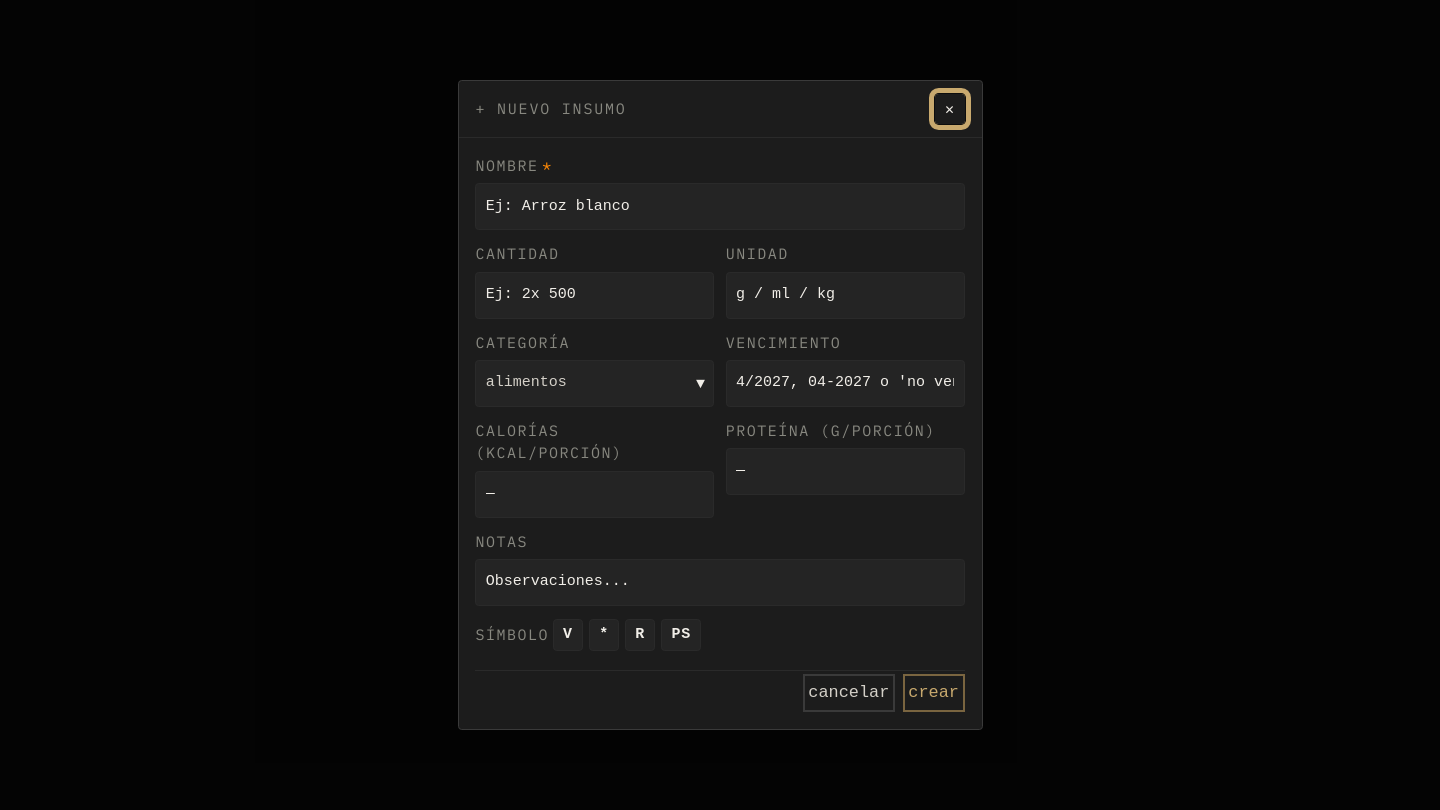
Scenario: InsumoModal › debe validar que el nombre sea requerido
The width and height of the screenshot is (1440, 810).
Click the button "crear".
click(934, 693)  # box left=902, top=674, right=965, bottom=712
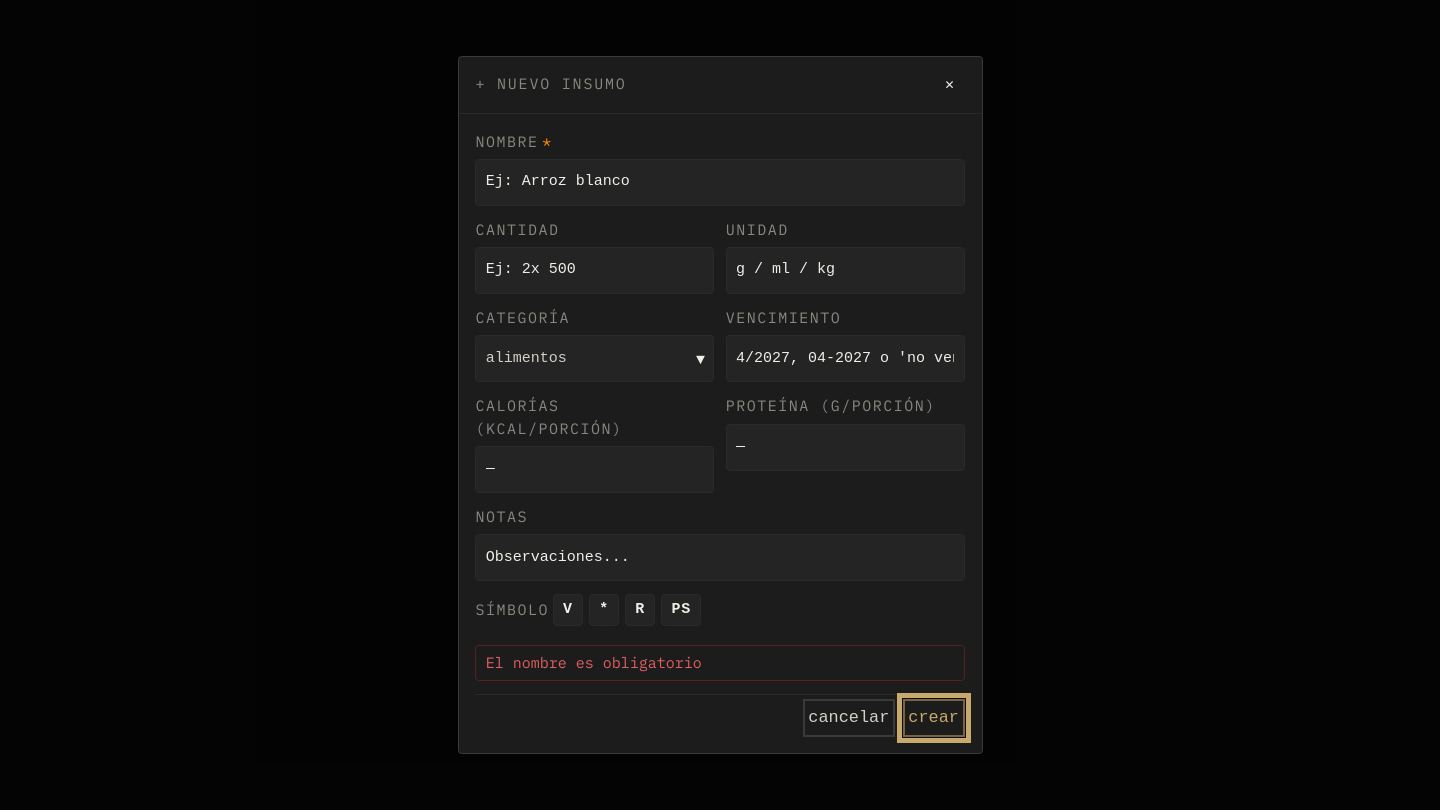
Expected: the text "El nombre es obligatorio" is shown, left=475, top=645, right=965, bottom=681
